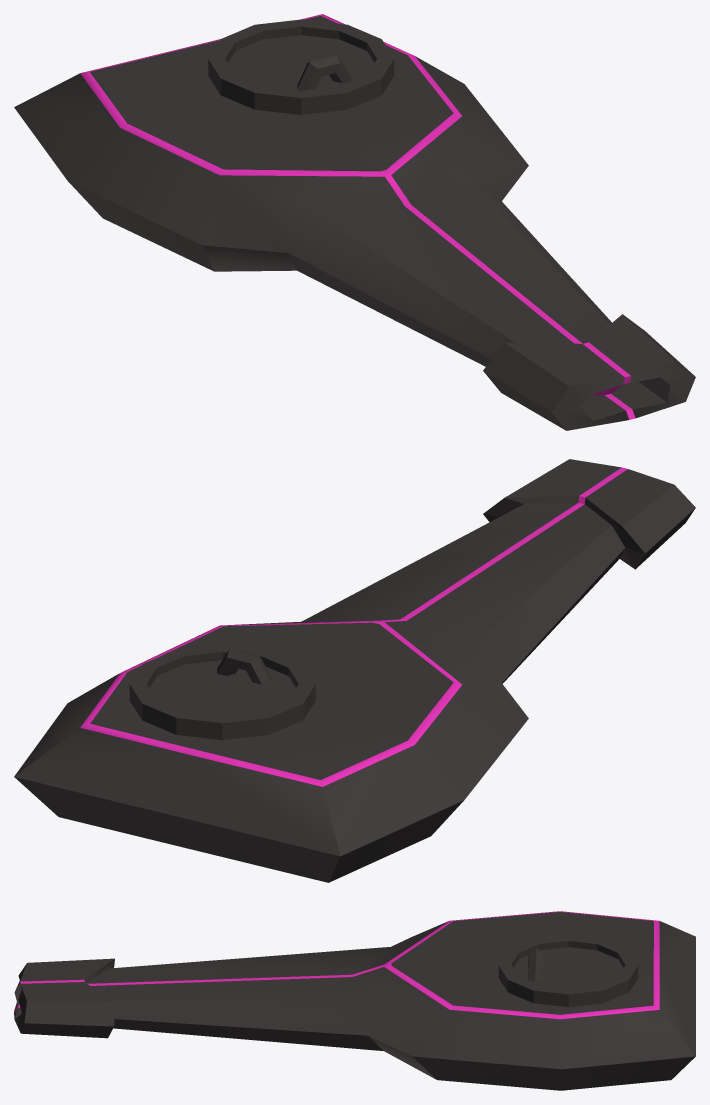
File: tank top.fbx
3 renders of one model, top to bottom at view 1: azimuth 30°, elevation 25°; view 2: azimuth 150°, elevation 25°; view 3: azimuth 270°, elevation 25°, orthographic. The views are drawn at different scales.
Parts seen in each view (by area): view 1: pCube4; view 2: pCube4; view 3: pCube4.
Boxes of the visible parts, box(x1,y1,x2,y2) form: pCube4: box(14, 14, 695, 430); pCube4: box(14, 459, 695, 882); pCube4: box(14, 911, 695, 1090).
Bounding box in the file's own units: 1.1 × 0.3226 × 2.17.
